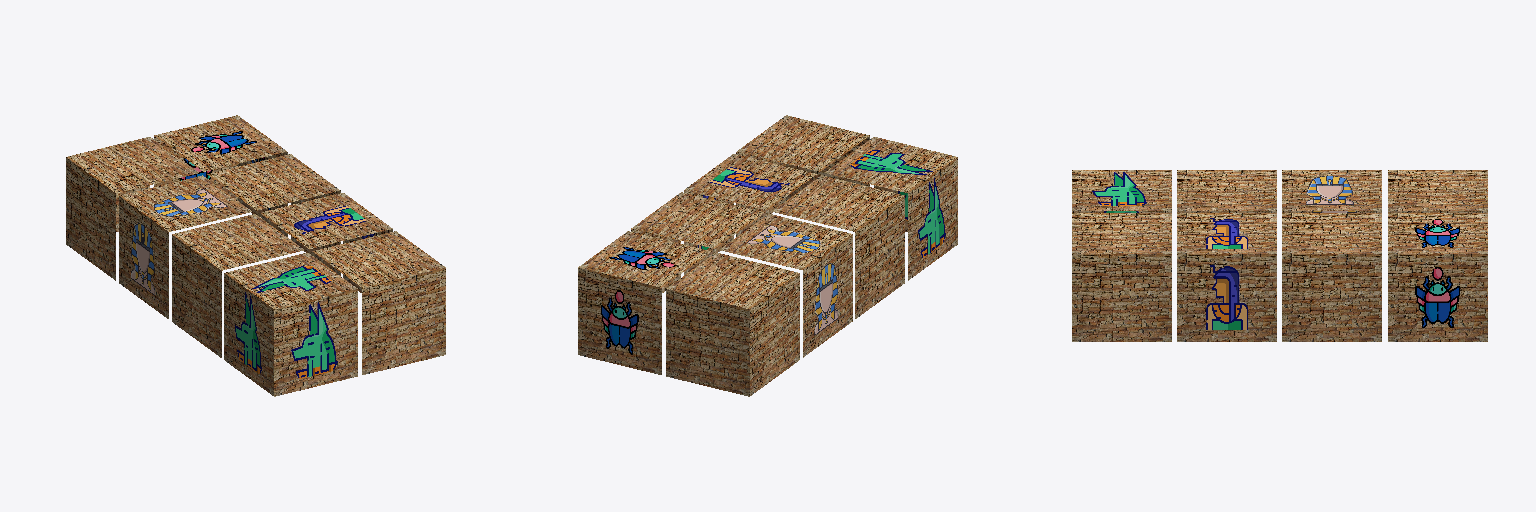
3 views of the same model, side by side, from view 1: azimuth 30°, elevation 25°; view 2: azimuth 150°, elevation 25°; view 3: azimuth 270°, elevation 25° (orthographic).
Parts seen in each view (by area): view 1: laberintoCompletoEgipto_Box672; view 2: laberintoCompletoEgipto_Box672; view 3: laberintoCompletoEgipto_Box672.
Part boxes in pixels (bbox=[...]): laberintoCompletoEgipto_Box672: bbox=[66, 115, 445, 396]; laberintoCompletoEgipto_Box672: bbox=[578, 115, 957, 396]; laberintoCompletoEgipto_Box672: bbox=[1072, 170, 1487, 341].
Bounding box in the file's own units: 4.13 × 2.02 × 8.69.
5 materials, 5 textured.